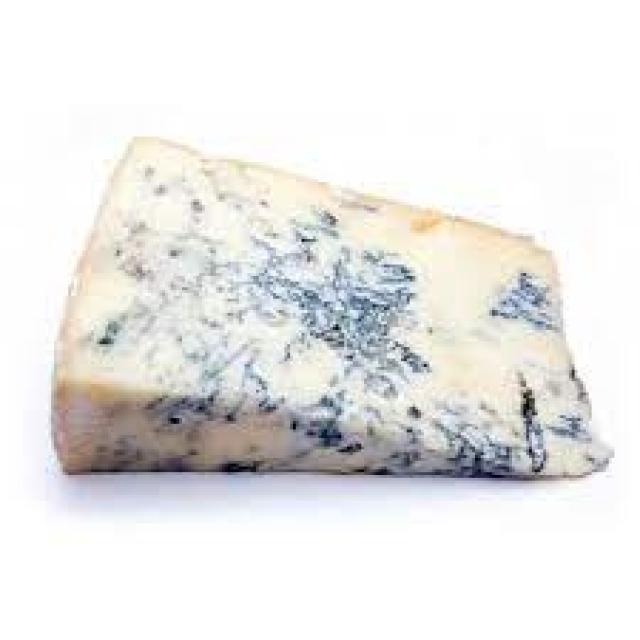Cheese: (54, 135, 607, 510)
